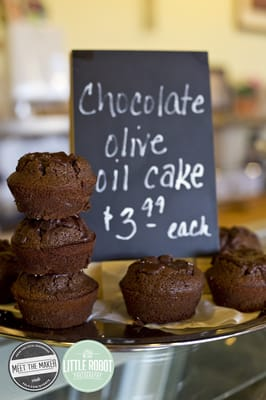salad: (7, 151, 97, 221), (119, 256, 205, 325), (204, 225, 266, 314)
sushi: (5, 151, 100, 327), (119, 255, 205, 325), (11, 270, 99, 329), (11, 215, 96, 276)
